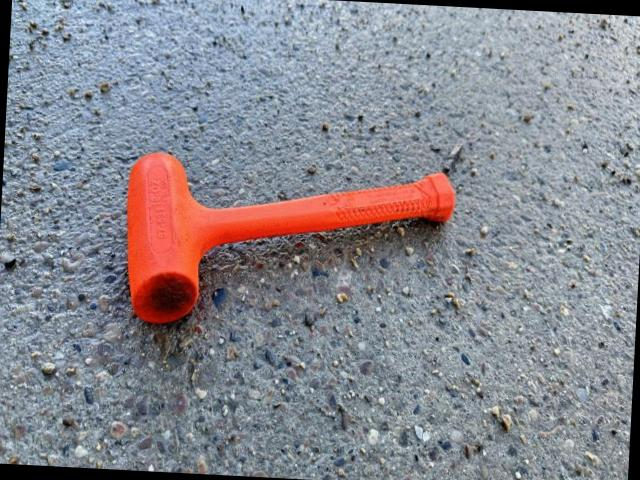hammer: (122, 152, 458, 340)
